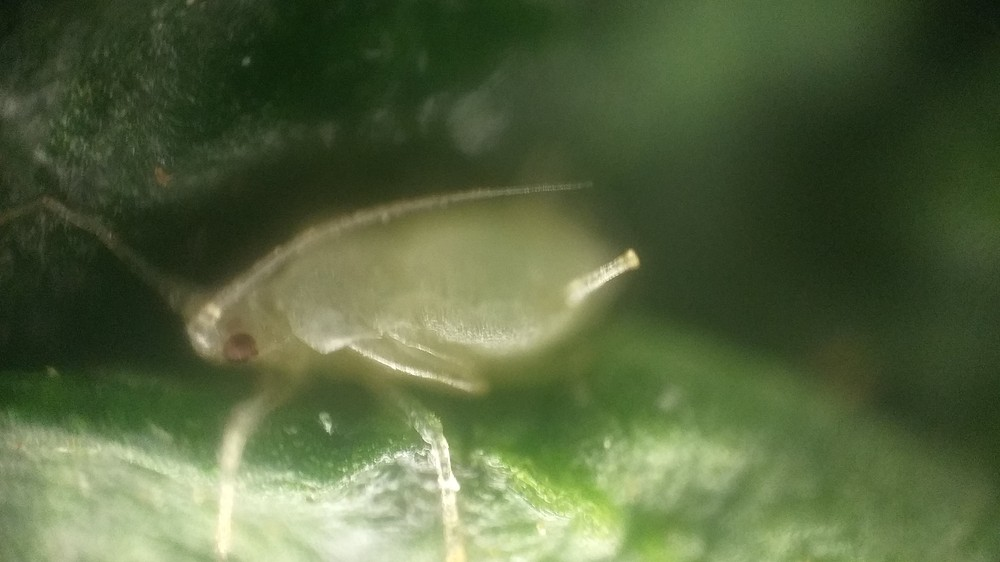Pulgon: (95, 131, 728, 560)
